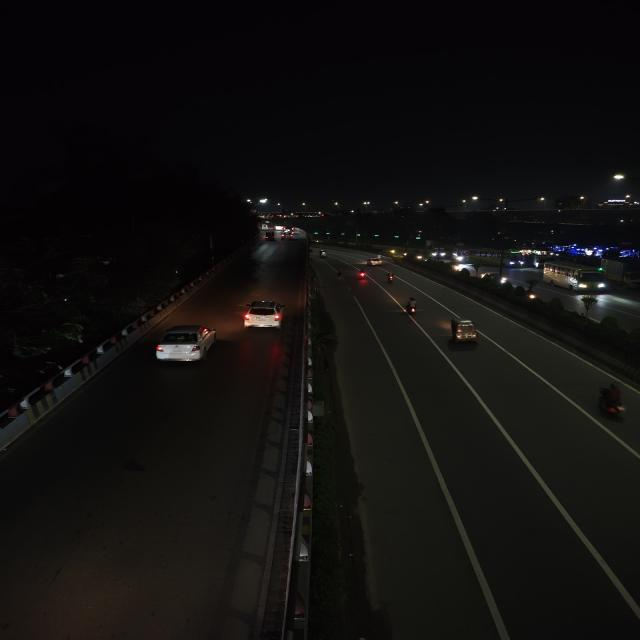bus: (541, 261, 607, 294), (471, 248, 526, 270), (453, 248, 469, 264)
car: (152, 323, 220, 369), (239, 298, 288, 332), (363, 256, 385, 268), (279, 230, 295, 242)
cng: (445, 316, 480, 346), (261, 231, 276, 241)
motorcycle: (591, 380, 630, 426), (401, 296, 423, 319), (355, 269, 370, 283), (384, 272, 398, 284), (317, 250, 328, 260)
pedestrian: (335, 270, 343, 282)
truck: (602, 255, 640, 292)
